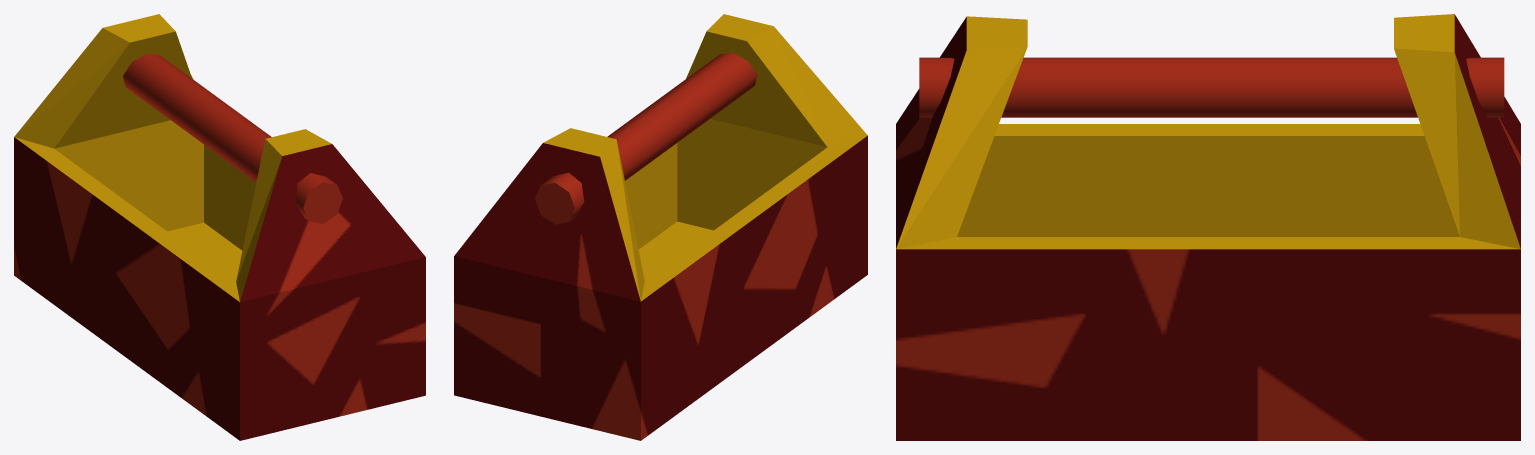
The model's file is PRSW_CajaHerramientas.FBX.
The picture shows the model from 3 angles, left to right: view 1: azimuth 30°, elevation 25°; view 2: azimuth 150°, elevation 25°; view 3: azimuth 270°, elevation 25°; orthographic projection. The views are drawn at different scales.
Parts seen in each view (by area): view 1: PRSW_CajaHerramientas; view 2: PRSW_CajaHerramientas; view 3: PRSW_CajaHerramientas.
Boxes of the visible parts, box(x1,y1,x2,y2) form: PRSW_CajaHerramientas: box(14, 14, 425, 440); PRSW_CajaHerramientas: box(454, 14, 867, 440); PRSW_CajaHerramientas: box(896, 14, 1520, 440).
Bounding box in the file's own units: 0.7396 × 0.9489 × 1.56.
